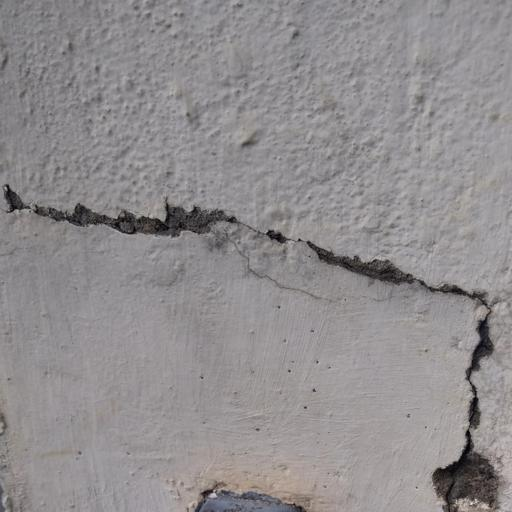major_crack: (0, 149, 507, 511)
